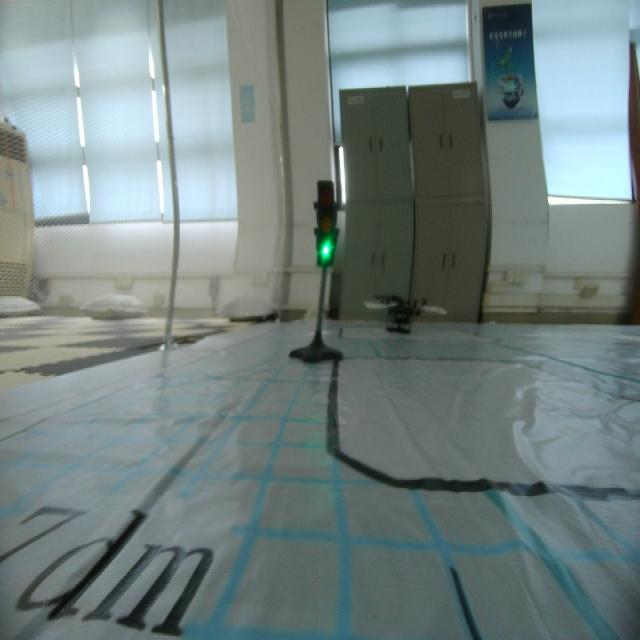green: (304, 173, 344, 274)
